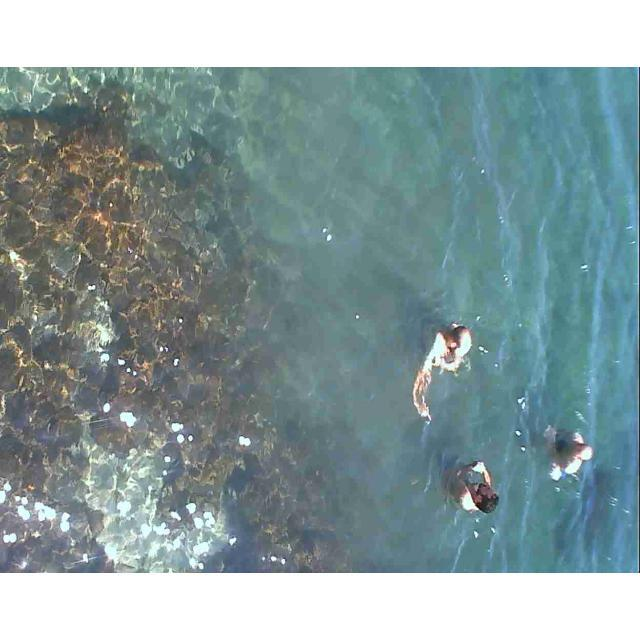human: (411, 315, 476, 427), (542, 416, 592, 486), (447, 457, 500, 522)
